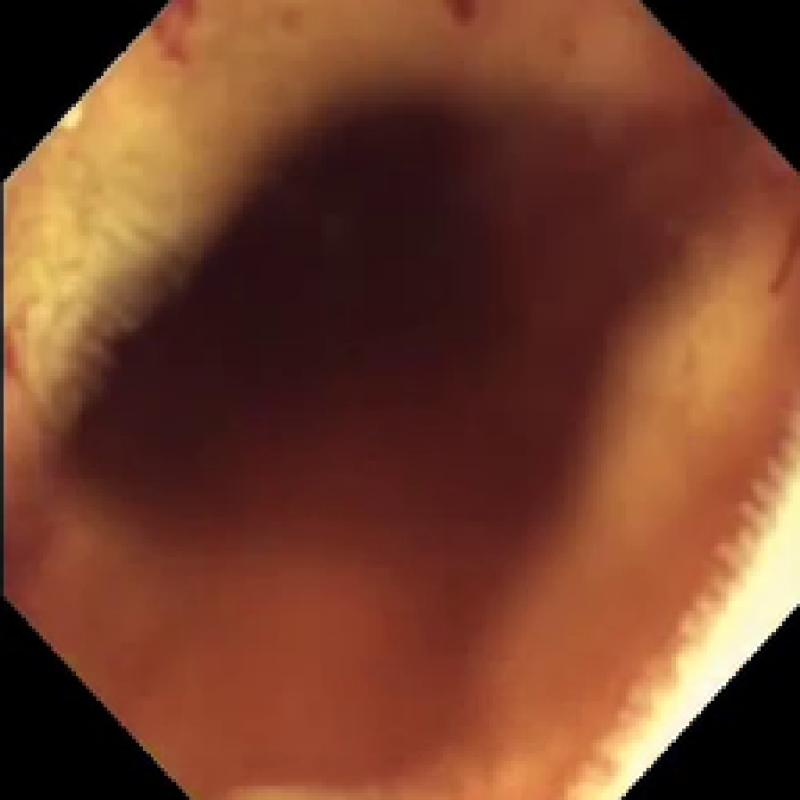bleeding: (6, 94, 793, 767), (143, 0, 228, 79), (433, 0, 489, 34)
